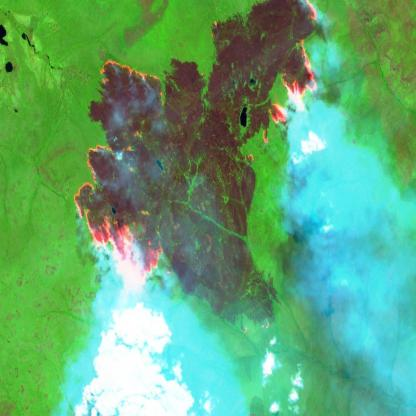fire: (73, 57, 165, 288), (260, 0, 320, 148), (242, 150, 256, 169)
